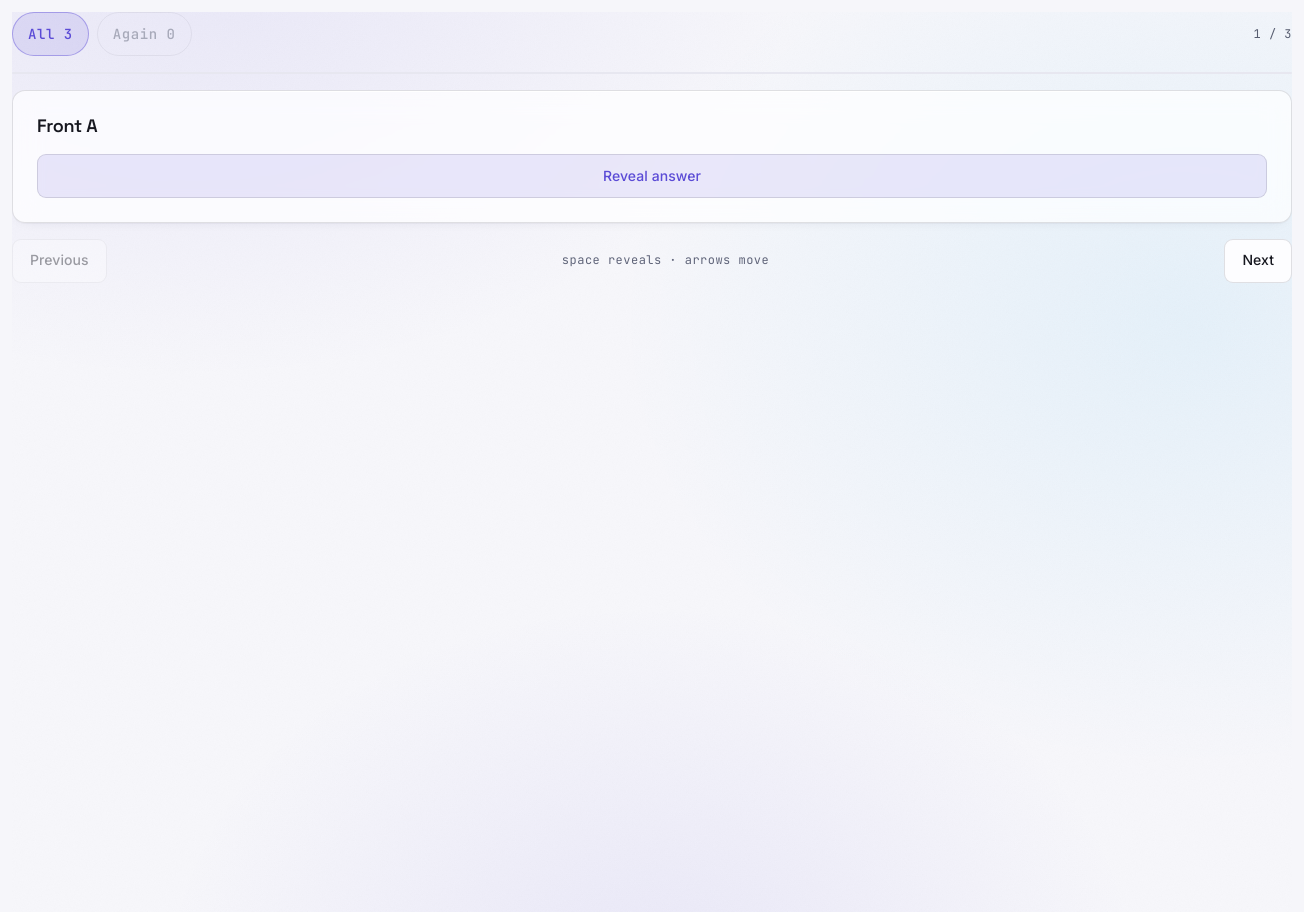
Test: ReviseDeck › writes a rating to `revision` and advances, without touching `completed`
Click the button with test id "revise-reveal" at coordinates (652, 176), box [37, 154, 1267, 198]
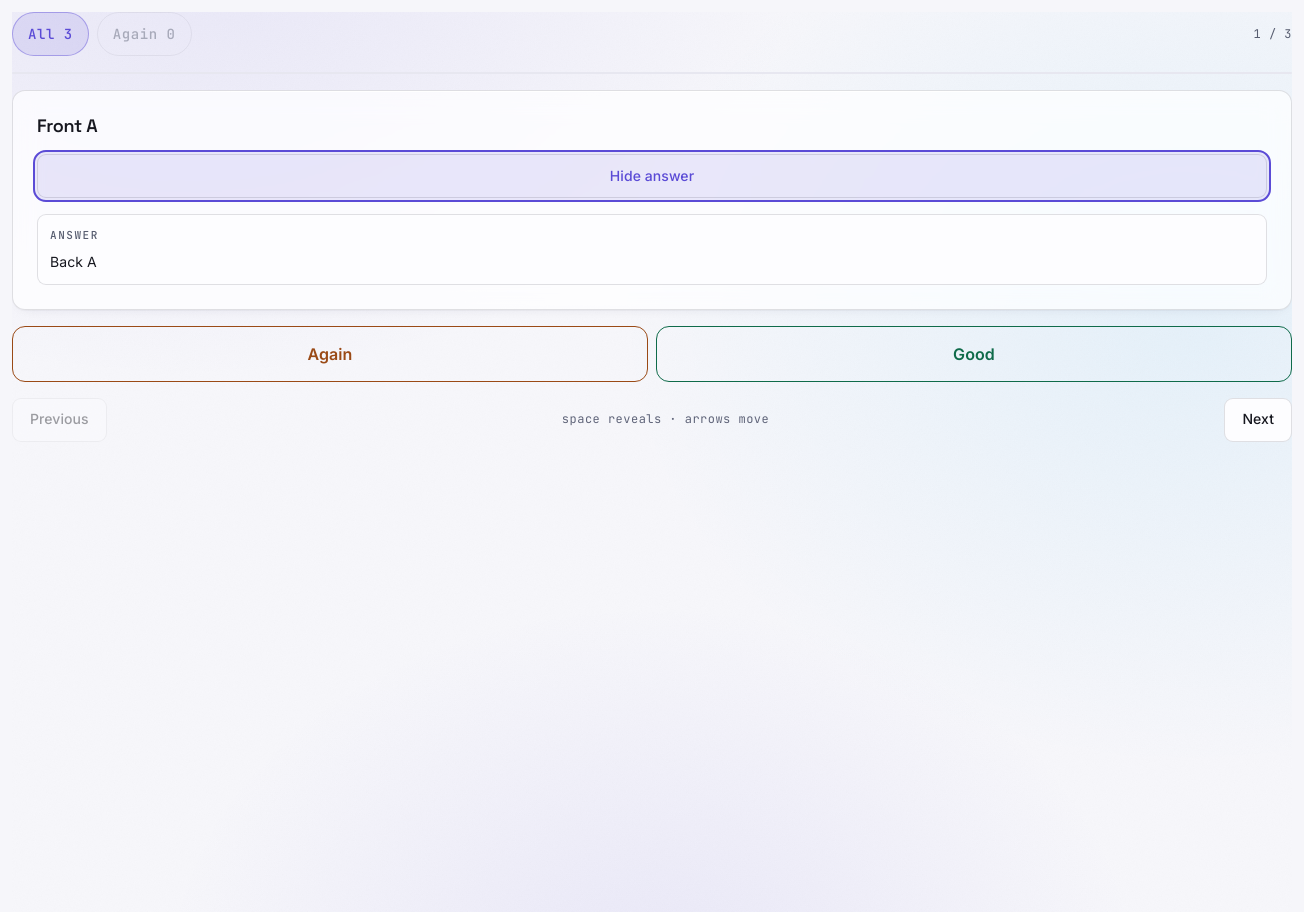
Click the button "Again" at coordinates (330, 354), box [12, 326, 648, 382]
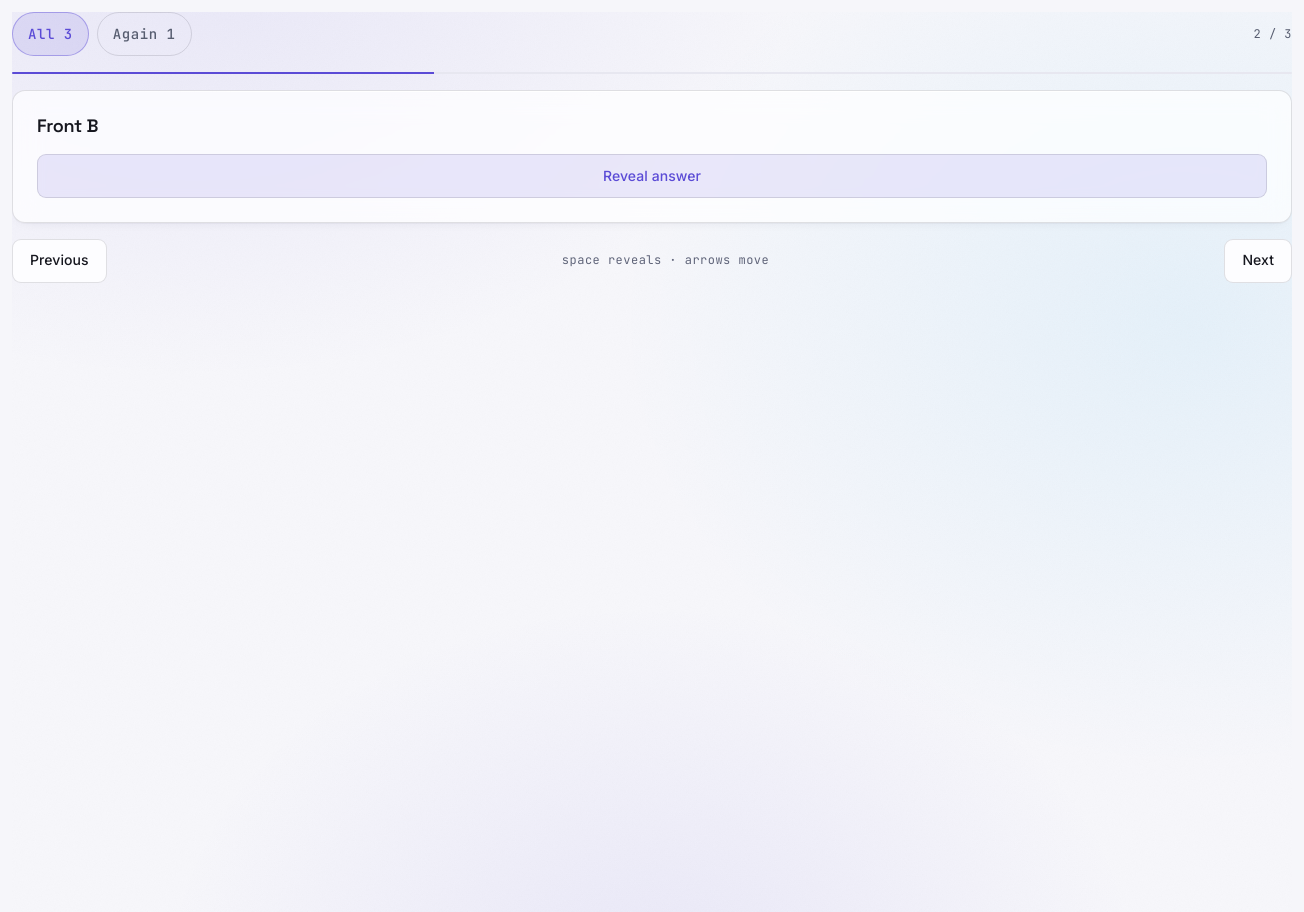
Expected: the text with test id "revise-position" reads "2 / 3", [1254, 26, 1292, 42]
